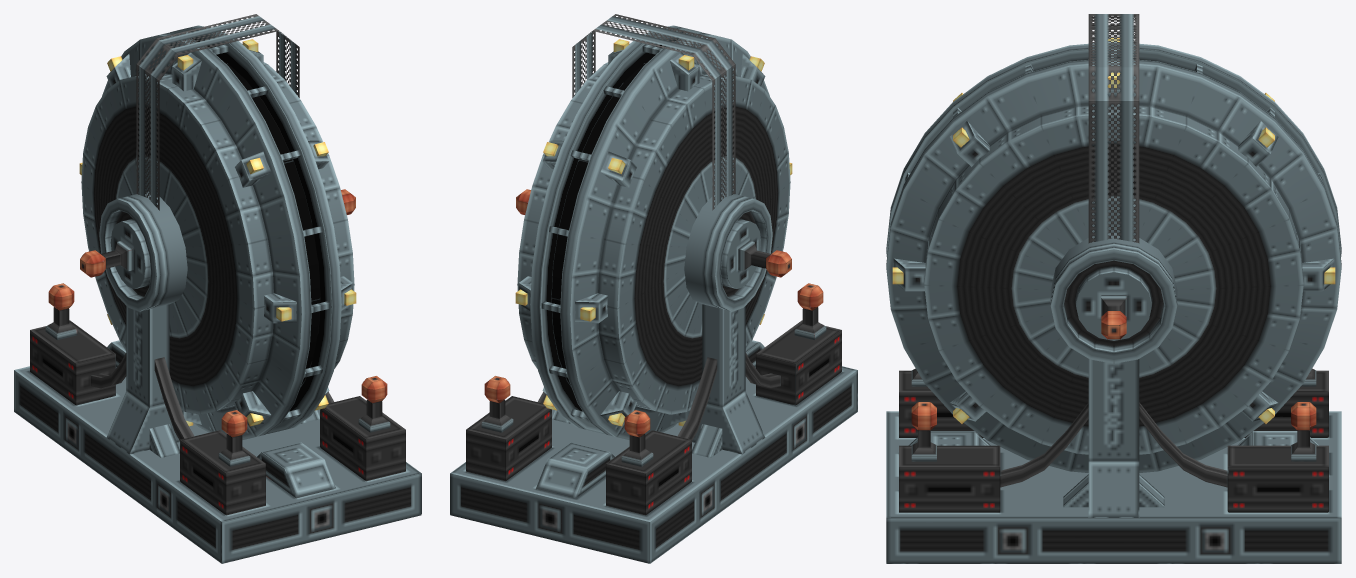
File: fensu2_item.obj
3 views of the same model, side by side, from view 1: azimuth 30°, elevation 25°; view 2: azimuth 150°, elevation 25°; view 3: azimuth 270°, elevation 25° (orthographic). The views are drawn at different scales.
Parts seen in each view (by area): view 1: Base, Wheel, Lights; view 2: Base, Wheel, Lights; view 3: Wheel, Base, Lights.
Part boxes in pixels (x1,y1,x2,y2): Base: [14, 14, 421, 563]; Wheel: [81, 25, 354, 439]; Lights: [79, 39, 356, 426]; Base: [450, 14, 857, 563]; Wheel: [517, 25, 790, 439]; Lights: [515, 39, 792, 426]; Wheel: [886, 41, 1341, 472]; Base: [886, 14, 1341, 563]; Lights: [892, 38, 1335, 423].
Size of the model in its own units: 6.75 by 10.25 by 9.
